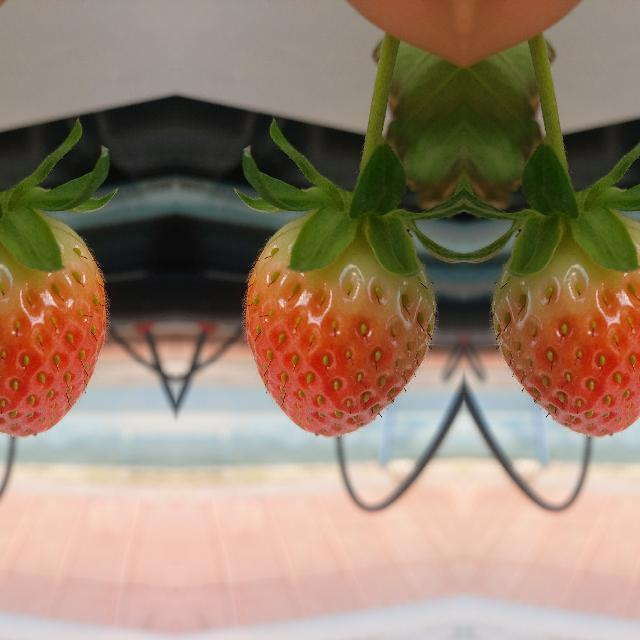Health_100: (245, 208, 435, 436), (491, 208, 640, 436), (0, 208, 105, 436)
